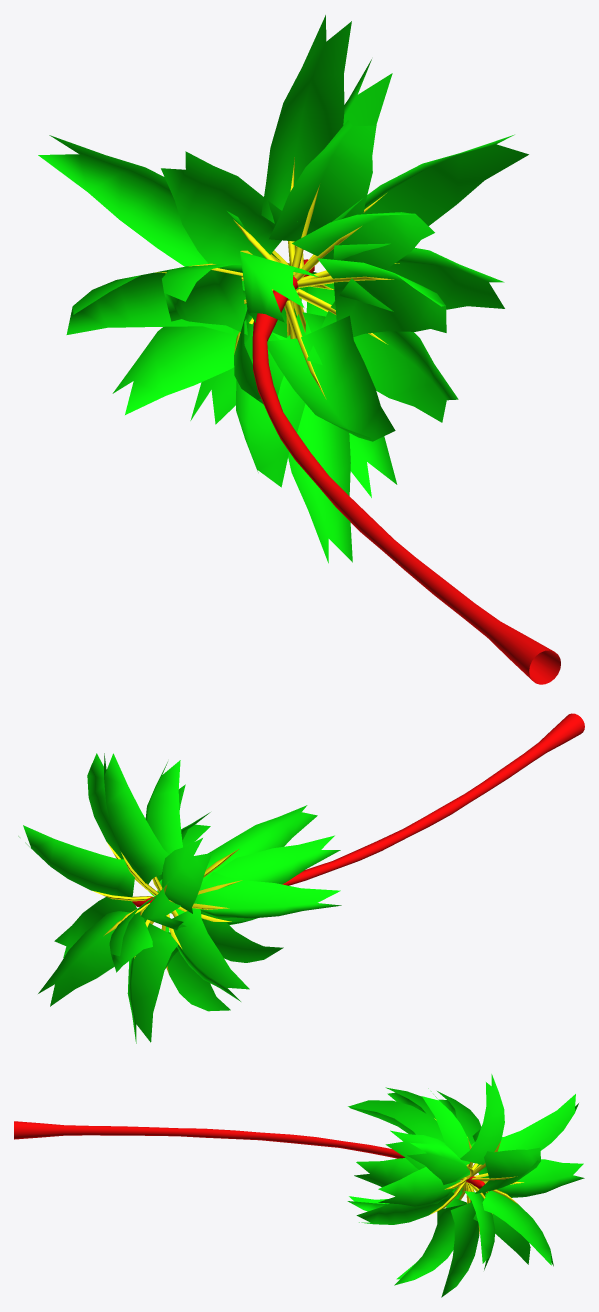
Rendered from M_P10_Tree_13.FBX.
The picture shows the model from 3 angles, top to bottom: view 1: azimuth 30°, elevation 25°; view 2: azimuth 150°, elevation 25°; view 3: azimuth 270°, elevation 25°; orthographic projection. The views are drawn at different scales.
Visible parts, largest first — view 1: M_P10_Tree_13_LOD0; view 2: M_P10_Tree_13_LOD0; view 3: M_P10_Tree_13_LOD0.
Part boxes in pixels (left/top/right/bottom): M_P10_Tree_13_LOD0: left=38, top=15, right=560, bottom=684; M_P10_Tree_13_LOD0: left=18, top=713, right=584, bottom=1043; M_P10_Tree_13_LOD0: left=14, top=1074, right=584, bottom=1297.
Bounding box in the file's own units: 274 × 629 × 279.
